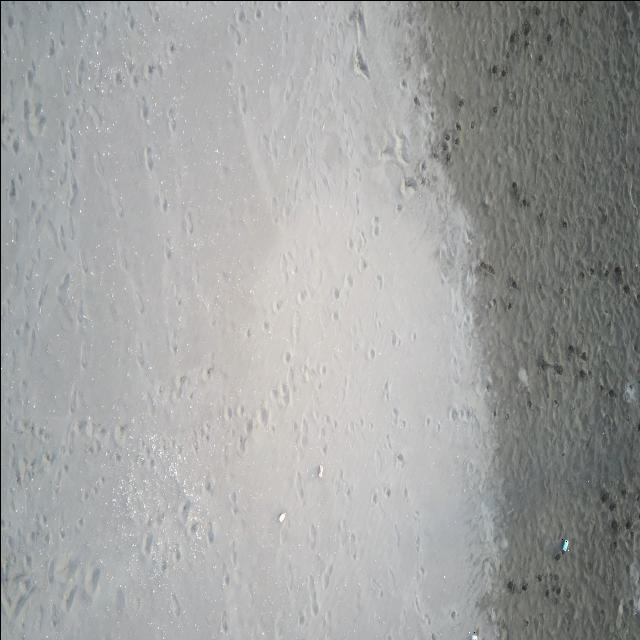Garbage: (560, 537, 567, 552), (278, 512, 286, 522), (471, 632, 477, 639), (320, 464, 323, 477)
